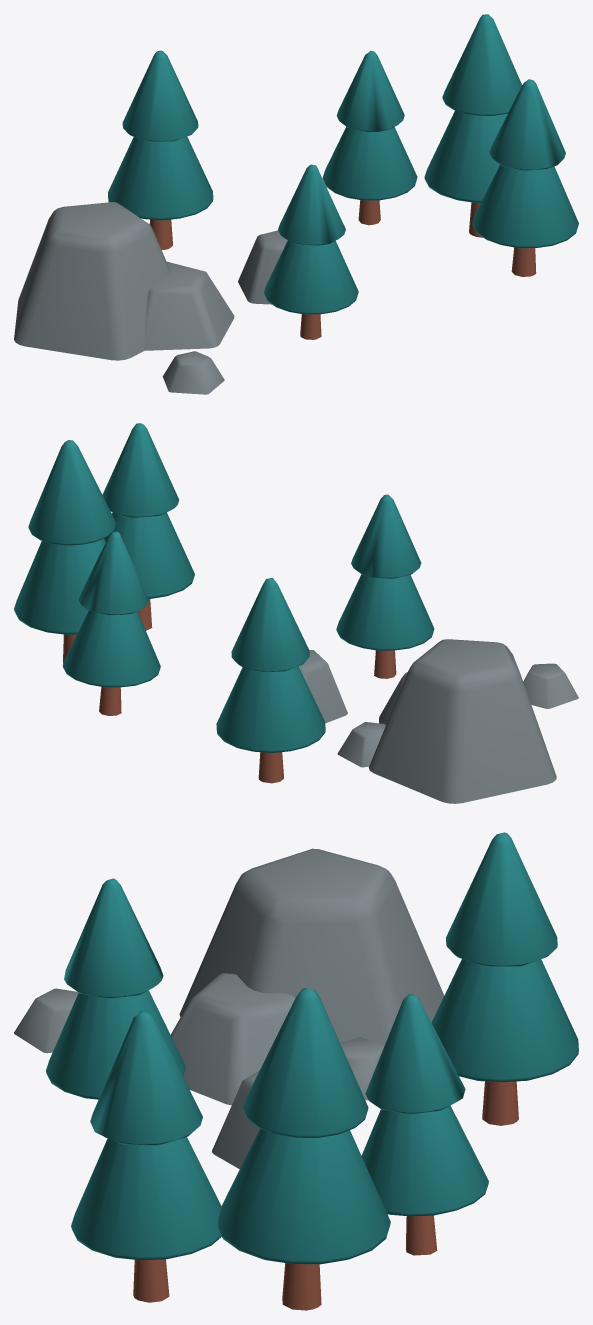
Rendered from detail_foresta.glb.
3 views of the same model, one above another, from view 1: azimuth 30°, elevation 25°; view 2: azimuth 150°, elevation 25°; view 3: azimuth 270°, elevation 25° (orthographic). The views are drawn at different scales.
Visible parts, largest first — view 1: detail_forestA; view 2: detail_forestA; view 3: detail_forestA.
Part boxes in pixels (x1,y1,x2,y2): detail_forestA: [14, 14, 578, 394]; detail_forestA: [14, 423, 578, 803]; detail_forestA: [14, 832, 578, 1310].
Size of the model in its own units: 7.36 by 2.93 by 4.73.
